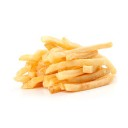frenchfries: (14, 28, 120, 90)
